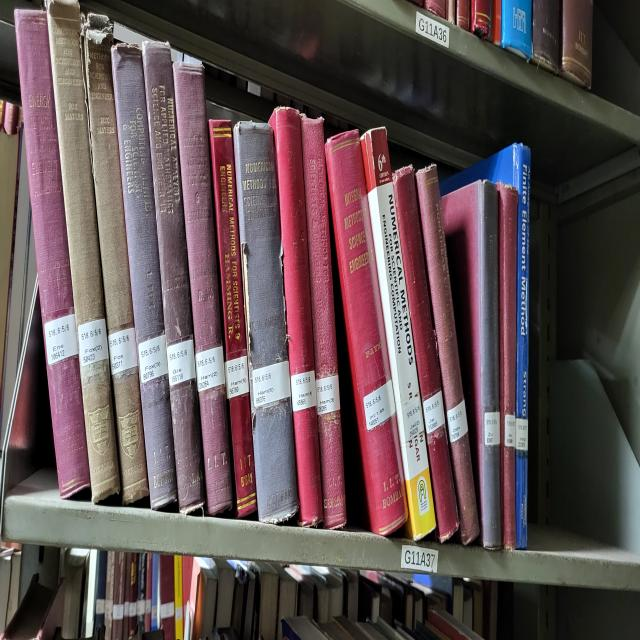Book: (15, 11, 90, 498), (48, 0, 120, 503), (325, 130, 408, 536), (82, 14, 149, 503), (111, 43, 178, 509), (361, 130, 435, 541), (142, 41, 205, 514), (174, 65, 232, 514), (234, 122, 299, 522), (392, 168, 459, 541), (416, 165, 479, 544), (441, 181, 501, 549), (270, 108, 322, 525), (209, 119, 256, 517), (301, 116, 346, 528), (488, 143, 531, 549), (496, 181, 519, 549)
Label: (252, 360, 290, 409), (44, 314, 79, 365), (364, 379, 395, 430), (78, 319, 109, 368), (364, 381, 395, 430), (139, 333, 168, 384), (166, 338, 196, 387), (195, 346, 225, 392), (109, 327, 138, 373), (399, 395, 424, 446), (422, 392, 444, 444), (225, 354, 249, 398), (291, 371, 316, 411), (316, 373, 340, 414), (448, 400, 468, 441), (484, 411, 500, 446)
